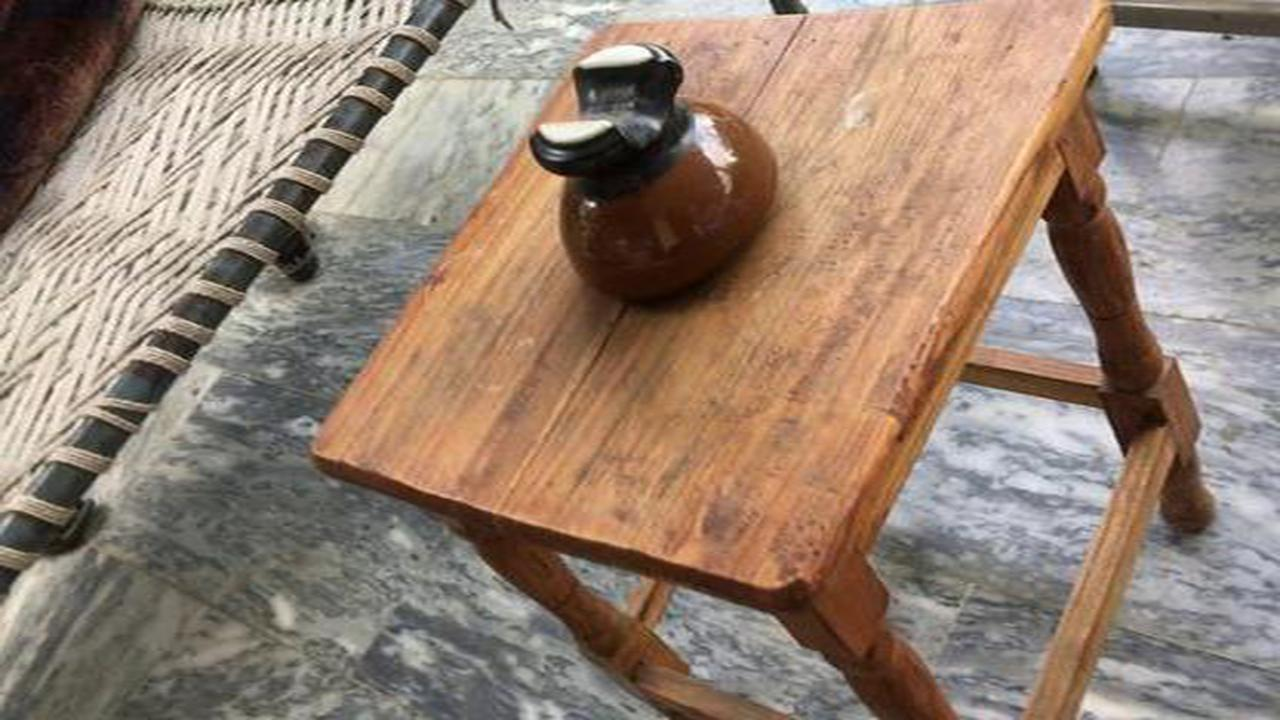insulator_pin: (514, 33, 794, 314)
